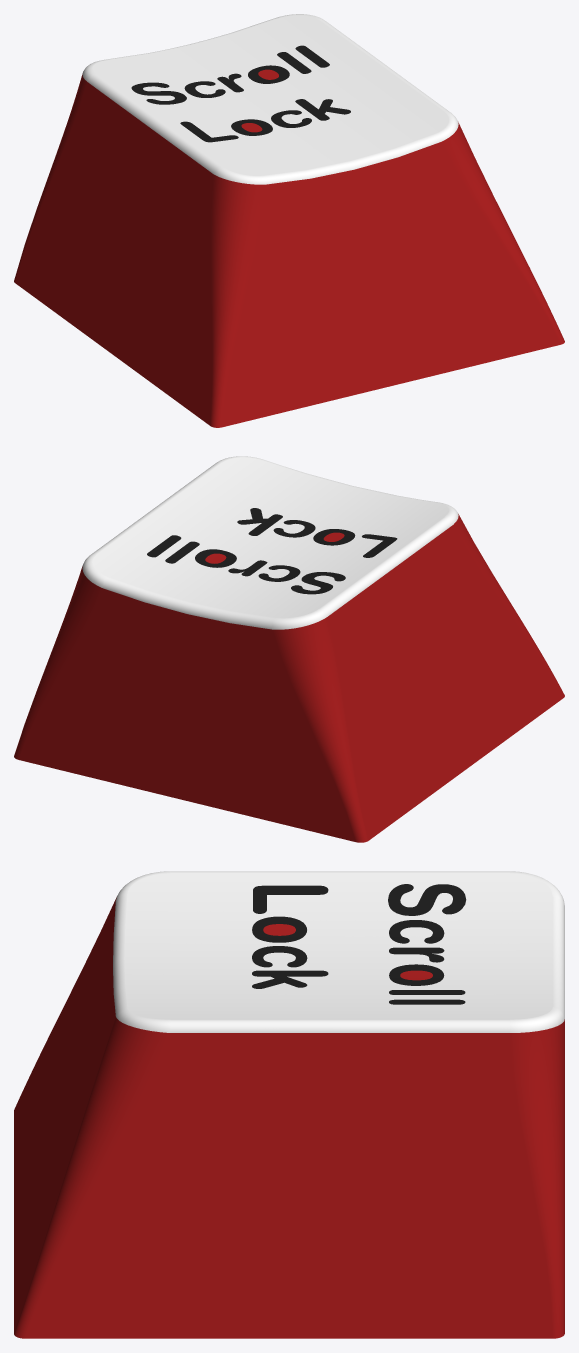
Rendered from Scroll Lock.fbx.
The picture shows the model from 3 angles, top to bottom: view 1: azimuth 30°, elevation 25°; view 2: azimuth 150°, elevation 25°; view 3: azimuth 270°, elevation 25°; orthographic projection. The views are drawn at different scales.
Visible parts, largest first — view 1: Body1; view 2: Body1; view 3: Body1.
Boxes of the visible parts, x1,y1,x2,y2 form: Body1: (14, 14, 564, 427); Body1: (14, 456, 564, 842); Body1: (14, 871, 564, 1338).
Bounding box in the file's own units: 18 × 9.95 × 18.
